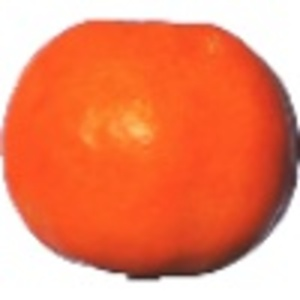tangerina: (1, 17, 300, 281)
